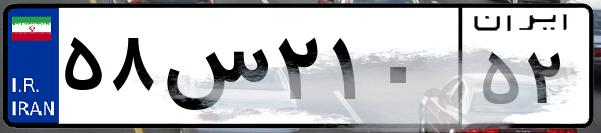0: (385, 28, 445, 110)
1: (330, 28, 385, 110)
2: (270, 28, 330, 110), (525, 38, 570, 115)
5: (57, 26, 110, 100), (475, 38, 525, 113)
8: (110, 28, 158, 98)
س: (158, 20, 270, 120)
